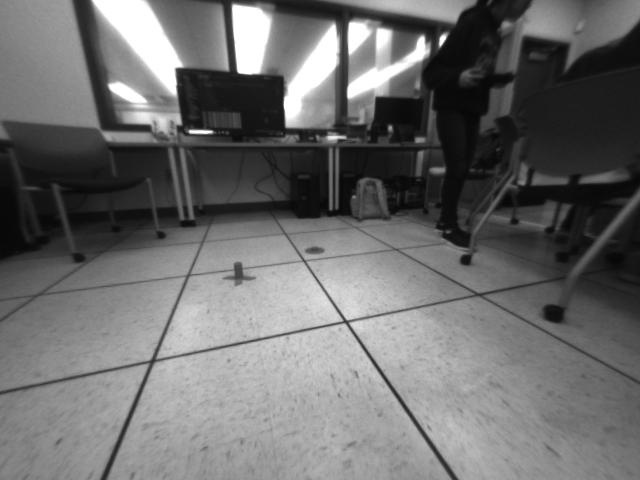X: (221, 259, 257, 287)
